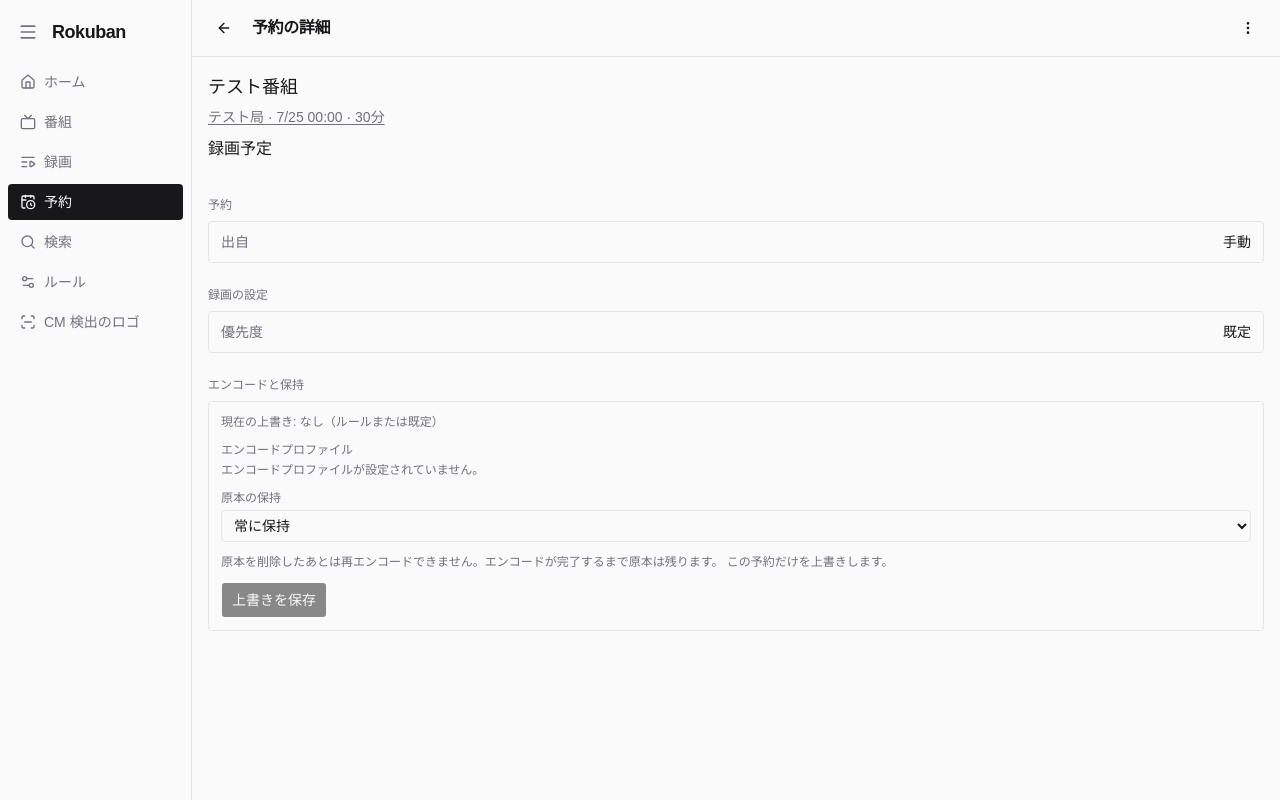
ReservationDetailPage › 予約取消が成功すると、トーストが出て /reservations へ遷移する
The image size is (1280, 800).
Expected: the heading "テスト番組" is shown, [208,77,298,97]
Expected: the button "予約を取消" is not shown
Click the button named "予約のその他の操作".
click(1248, 28)  # box [1232,12,1264,44]
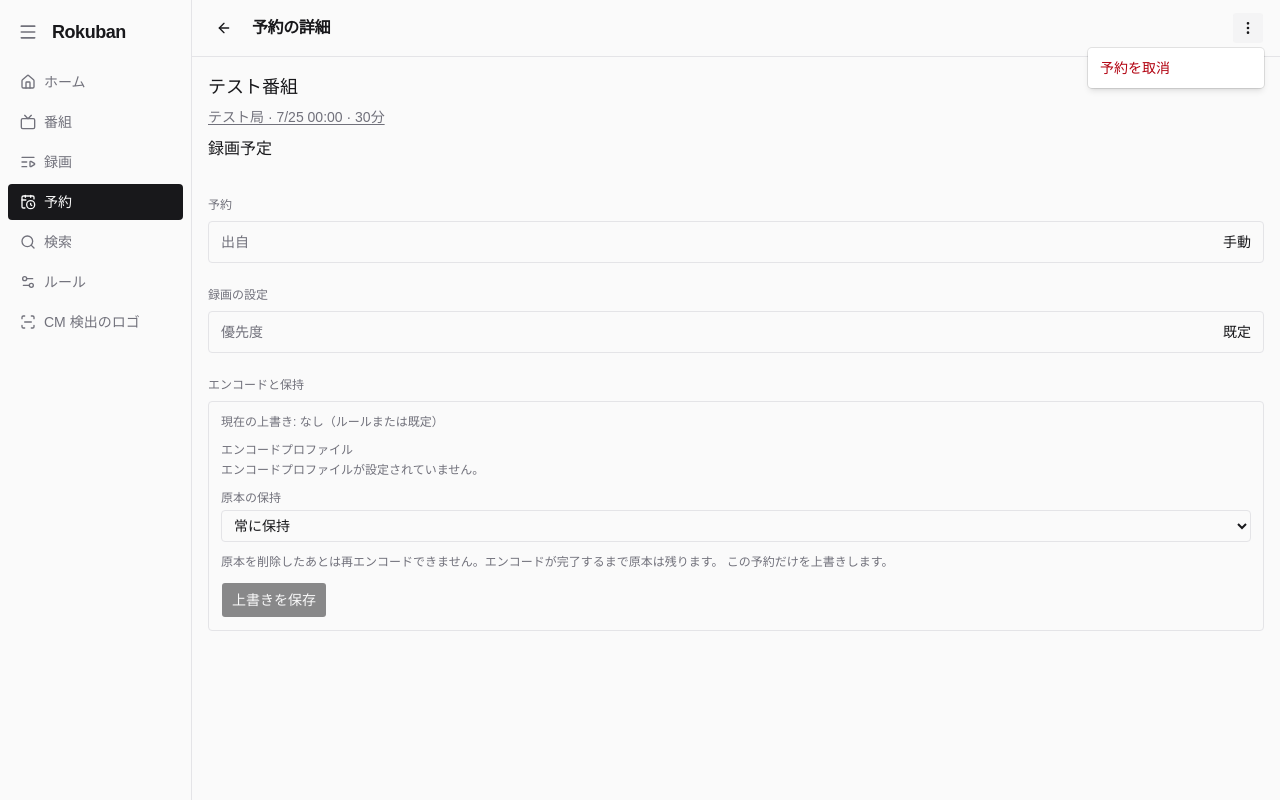
Expected: the menu item "予約を取消" is shown
Click the menu item "予約を取消".
click(1135, 68)  # box [1100,60,1170,76]
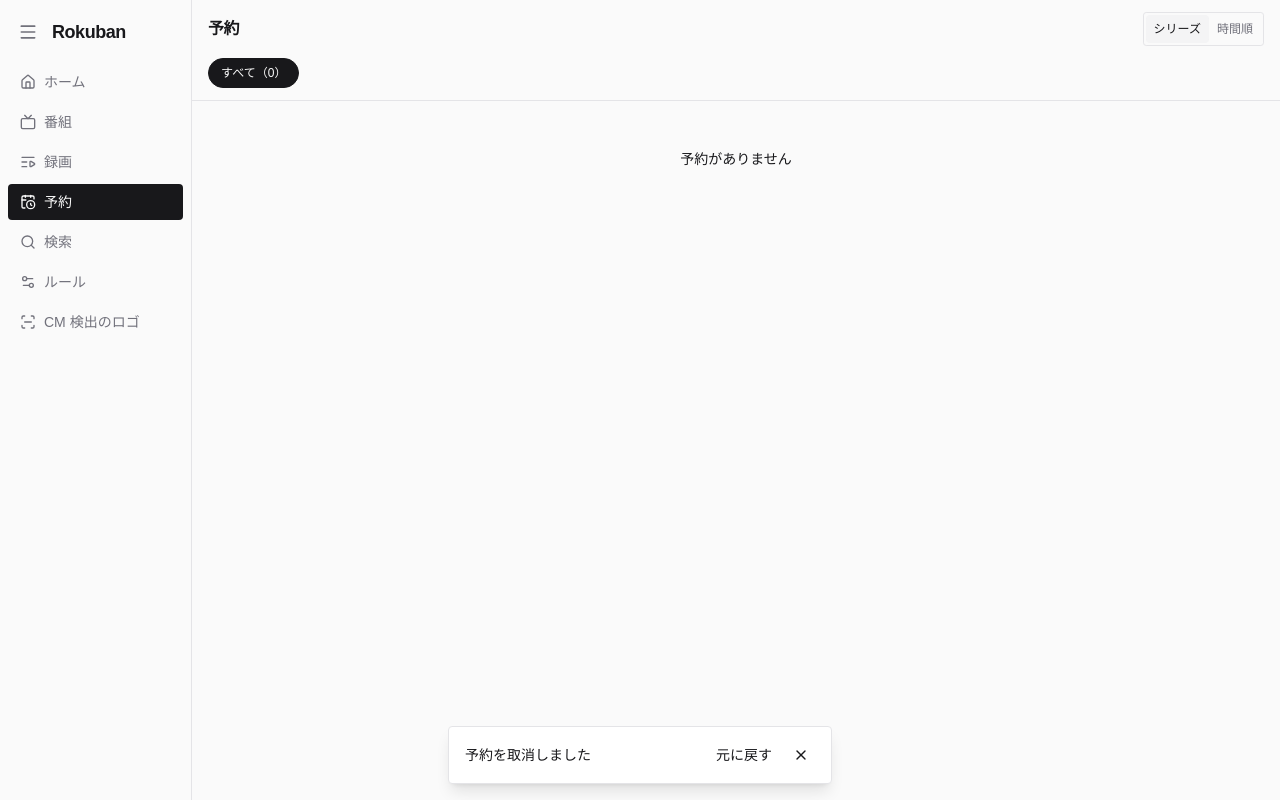
Expected: the text "予約を取消しました" is shown, [465,745,591,765]
